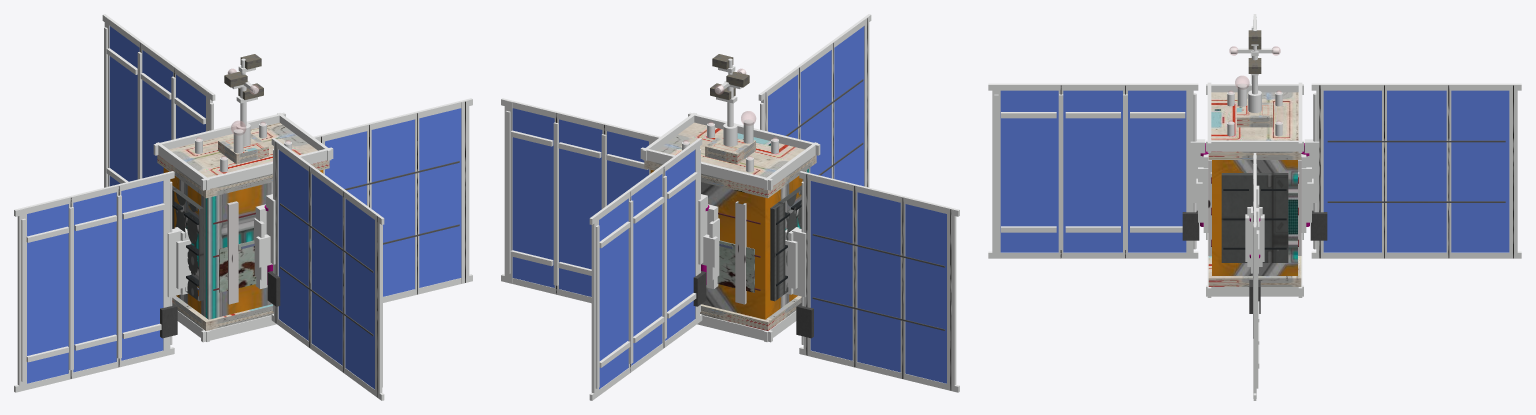
Rendered from satellite_with_articulated_solar_panels__0007.glb.
The picture shows the model from 3 angles, left to right: view 1: azimuth 30°, elevation 25°; view 2: azimuth 150°, elevation 25°; view 3: azimuth 270°, elevation 25°; orthographic projection. The views are drawn at different scales.
Parts seen in each view (by area): view 1: plus_x_solar_wing::panel_backing_2, minus_x_solar_wing::panel_backing_1, minus_x_solar_wing::panel_backing_2, minus_x_solar_wing::panel_backing_0, plus_x_solar_wing::panel_backing_1, bus::main_bus, minus_y_solar_wing::panel_backing_1, minus_y_solar_wing::panel_backing_0, minus_y_solar_wing::panel_backing_2, plus_y_solar_wing::panel_backing_2, bus::top_deck, plus_y_solar_wing::panel_backing_1 (+38 smaller); view 2: minus_x_solar_wing::panel_backing_1, minus_x_solar_wing::panel_backing_0, minus_x_solar_wing::panel_backing_2, plus_x_solar_wing::panel_backing_2, plus_x_solar_wing::panel_backing_1, bus::main_bus, plus_y_solar_wing::panel_backing_1, plus_y_solar_wing::panel_backing_2, plus_y_solar_wing::panel_backing_0, minus_y_solar_wing::panel_backing_2, bus::top_deck, minus_y_solar_wing::panel_backing_1 (+40 smaller); view 3: plus_y_solar_wing::panel_backing_1, plus_y_solar_wing::panel_backing_2, plus_y_solar_wing::panel_backing_0, minus_y_solar_wing::panel_backing_1, minus_y_solar_wing::panel_backing_2, minus_y_solar_wing::panel_backing_0, bus::radiator_plus_x, bus::main_bus, bus::top_deck, minus_y_solar_wing::top_frame_rail, plus_y_solar_wing::top_frame_rail, minus_y_solar_wing::bottom_frame_rail (+24 smaller).
Part boxes in pixels (x1,y1,x2,y2): plus_x_solar_wing::panel_backing_2: (419,108,461,287); minus_x_solar_wing::panel_backing_1: (73,192,116,372); minus_x_solar_wing::panel_backing_2: (27,204,68,383); minus_x_solar_wing::panel_backing_0: (121,181,163,360); plus_x_solar_wing::panel_backing_1: (371,119,414,296); bus::main_bus: (163,168,323,319); minus_y_solar_wing::panel_backing_1: (311,174,342,365); minus_y_solar_wing::panel_backing_0: (278,150,308,340); minus_y_solar_wing::panel_backing_2: (345,198,374,389); plus_y_solar_wing::panel_backing_2: (109,26,139,186); bus::top_deck: (157,122,329,198); plus_y_solar_wing::panel_backing_1: (142,50,173,178); minus_x_solar_wing::panel_backing_1: (857,192,900,372); minus_x_solar_wing::panel_backing_0: (810,181,852,360); minus_x_solar_wing::panel_backing_2: (905,204,946,383); plus_x_solar_wing::panel_backing_2: (512,108,554,287); plus_x_solar_wing::panel_backing_1: (559,119,602,296); bus::main_bus: (650,168,810,319); plus_y_solar_wing::panel_backing_1: (631,174,662,365); plus_y_solar_wing::panel_backing_2: (599,198,628,389); plus_y_solar_wing::panel_backing_0: (665,150,695,340); minus_y_solar_wing::panel_backing_2: (834,26,864,186); bus::top_deck: (644,122,816,198); minus_y_solar_wing::panel_backing_1: (800,50,831,178); plus_y_solar_wing::panel_backing_1: (1387,90,1446,252); plus_y_solar_wing::panel_backing_2: (1451,90,1509,252); plus_y_solar_wing::panel_backing_0: (1323,90,1381,252); minus_y_solar_wing::panel_backing_1: (1063,90,1122,252); minus_y_solar_wing::panel_backing_2: (1000,90,1058,252); minus_y_solar_wing::panel_backing_0: (1128,90,1186,252); bus::radiator_plus_x: (1221,173,1288,262); bus::main_bus: (1212,160,1297,275); bus::top_deck: (1208,92,1301,159); minus_y_solar_wing::top_frame_rail: (988,83,1198,90); plus_y_solar_wing::top_frame_rail: (1311,83,1521,90); minus_y_solar_wing::bottom_frame_rail: (988,251,1198,258).
Size of the model in its own units: 4.79 by 2.77 by 5.06.
18 materials, 14 textured.
